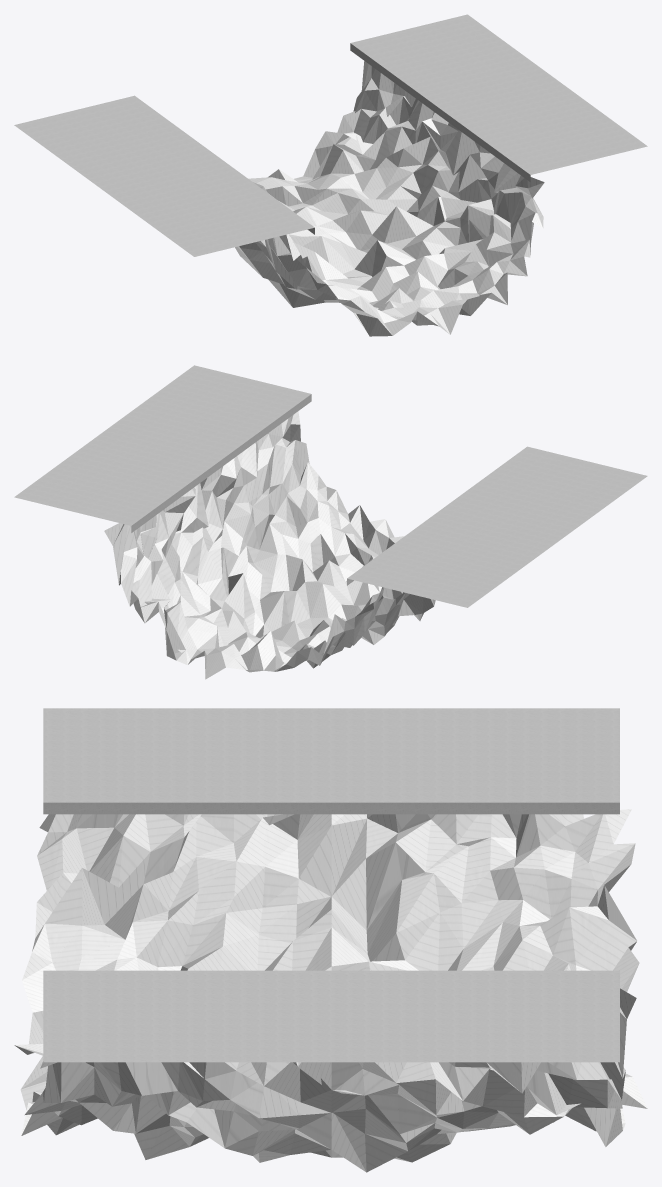
The model's file is Level3.FBX.
3 renders of one model, top to bottom at view 1: azimuth 30°, elevation 25°; view 2: azimuth 150°, elevation 25°; view 3: azimuth 270°, elevation 25°, orthographic. The views are drawn at different scales.
Parts seen in each view (by area): view 1: Canyon, Ground; view 2: Canyon, Ground; view 3: Canyon, Ground.
Part boxes in pixels (x1,y1,x2,y2): Canyon: (235,61,544,336); Ground: (14,14,647,256); Canyon: (104,411,435,679); Ground: (14,365,647,607); Canyon: (14,809,647,1172); Ground: (43,708,619,1062).
Size of the model in its own units: 9468 by 7169 by 3094.
